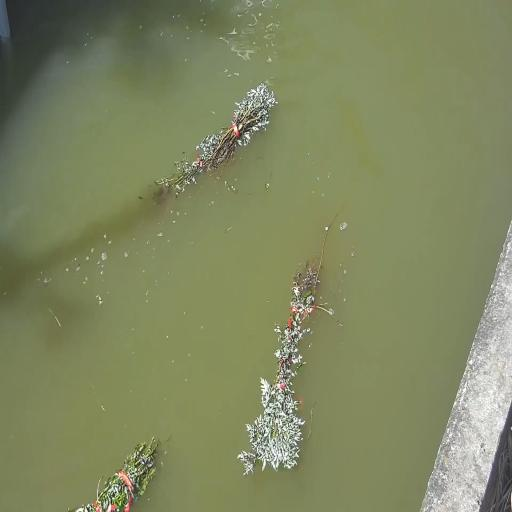twig: (237, 206, 339, 474), (153, 84, 279, 204), (74, 434, 159, 512)
